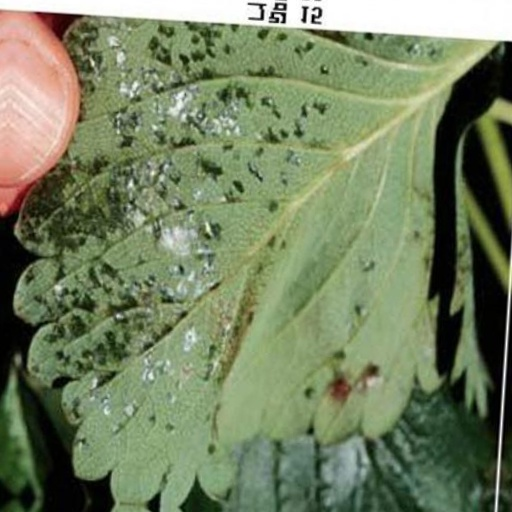Angular Leafspot: (13, 2, 457, 487)
